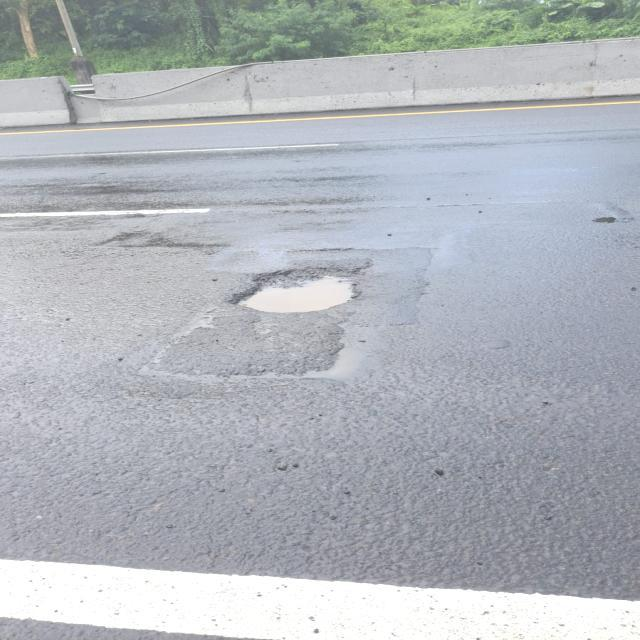Buraco: (224, 257, 377, 317), (82, 227, 234, 250), (589, 212, 621, 226)
